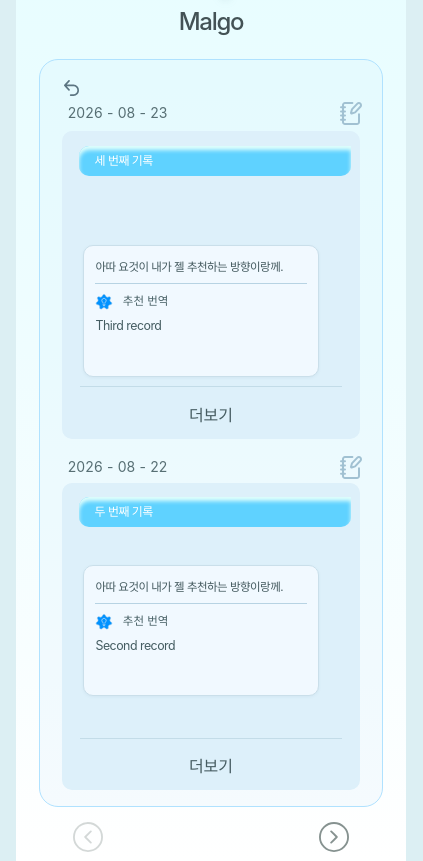
Test case: 하단 화살표로 이전·다음 번역 기록 묶음을 전환한다
(page scrolled)
Expected: the text "2026 - 08 - 23" is shown, [68,106,168,120]
Step 1. Click the button named "다음 번역 기록" → [334, 837], box [319,822,349,852]
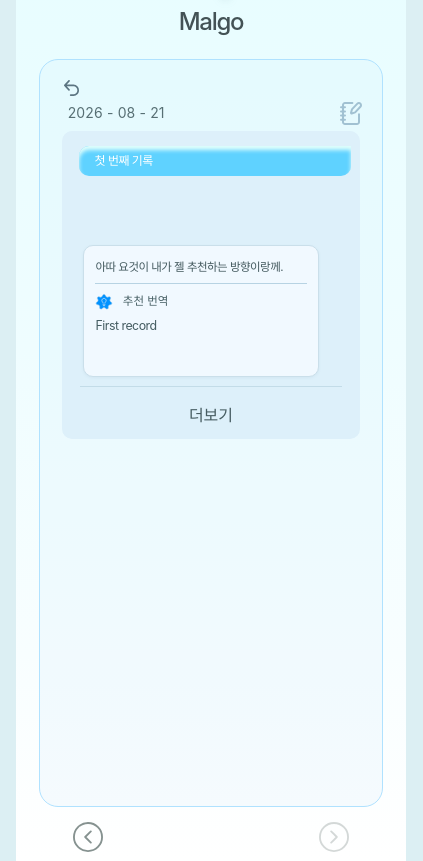
Expected: the text "2026 - 08 - 21" is shown, [68,106,165,120]
Expected: the element with class "translation-history-page-set--next" is shown, [62,102,362,439]
Step 2. Click the button named "이전 번역 기록" → [88, 837], box [73,822,103,852]
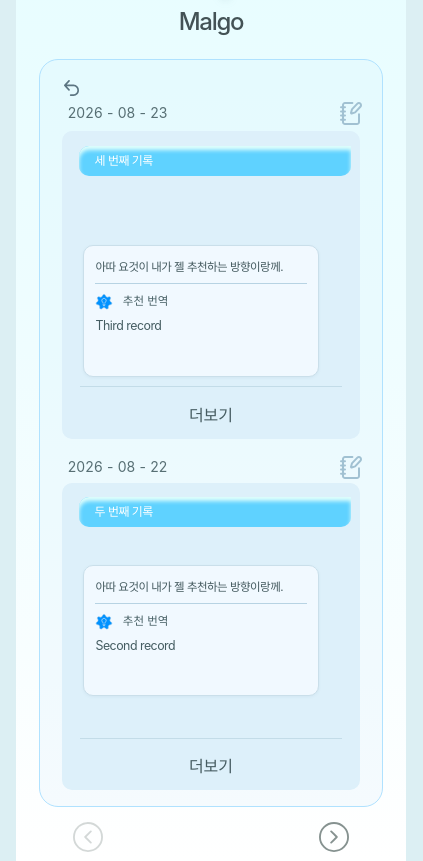
Expected: the text "2026 - 08 - 23" is shown, [68,106,168,120]
Expected: the element with class "translation-history-page-set--previous" is shown
